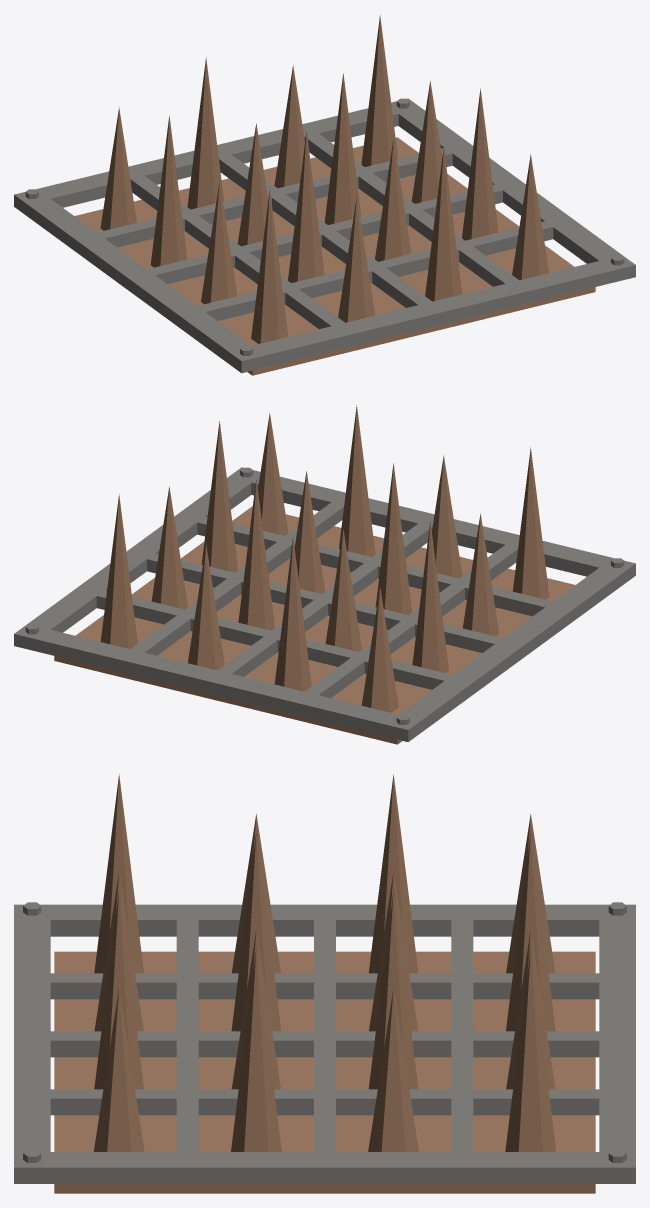
Rendered from Spike trap.fbx.
3 renders of one model, top to bottom at view 1: azimuth 30°, elevation 25°; view 2: azimuth 150°, elevation 25°; view 3: azimuth 270°, elevation 25°, orthographic. The views are drawn at different scales.
Parts seen in each view (by area): view 1: Spikes, Spike plate; view 2: Spikes, Spike plate; view 3: Spike plate, Spikes.
Boxes of the visible parts, <box> form: Spikes: <box>74,14,595,375</box>; Spike plate: <box>14,98,635,373</box>; Spikes: <box>54,404,574,744</box>; Spike plate: <box>14,467,635,741</box>; Spike plate: <box>14,902,635,1183</box>; Spikes: <box>54,774,595,1193</box>.
Size of the model in its own units: 1.7 by 0.66 by 1.7.
